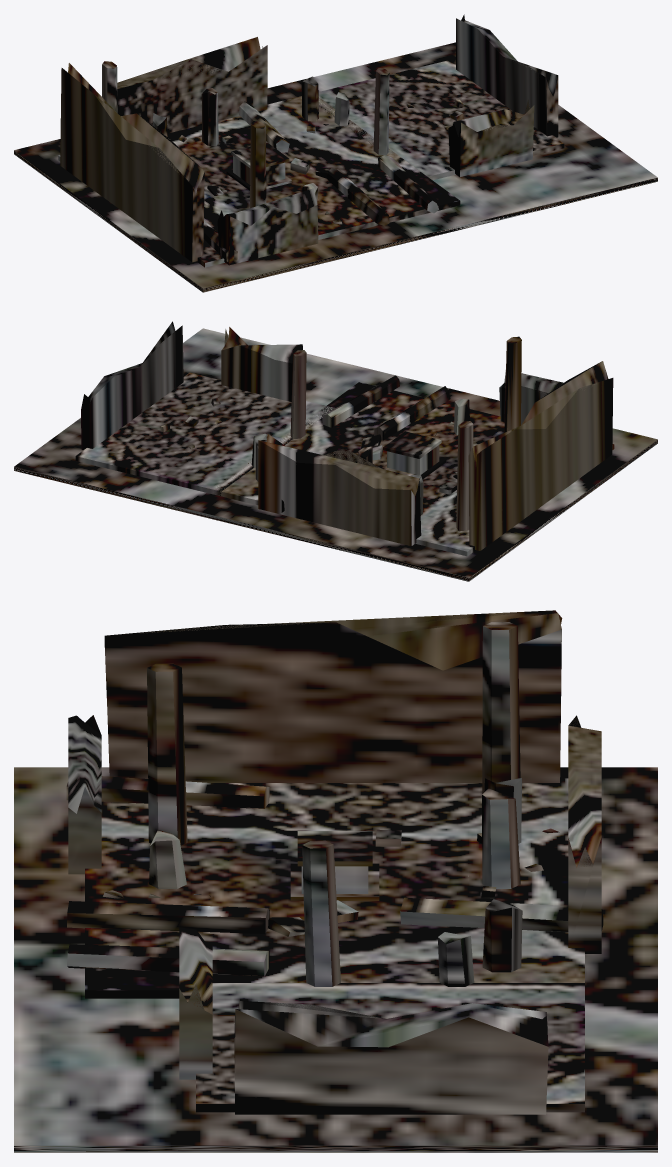
The model's file is cultist_ruins.glb.
3 renders of one model, top to bottom at view 1: azimuth 30°, elevation 25°; view 2: azimuth 150°, elevation 25°; view 3: azimuth 270°, elevation 25°, orthographic. The views are drawn at different scales.
Parts seen in each view (by area): view 1: Cube.001; view 2: Cube.001; view 3: Cube.001.
Boxes of the visible parts, x1,y1,x2,y2 form: Cube.001: (14, 14, 657, 292); Cube.001: (14, 321, 657, 581); Cube.001: (14, 610, 657, 1152).
Size of the model in its own units: 25.41 by 5.94 by 18.29.
Materials: 1 (1 with a texture image).
